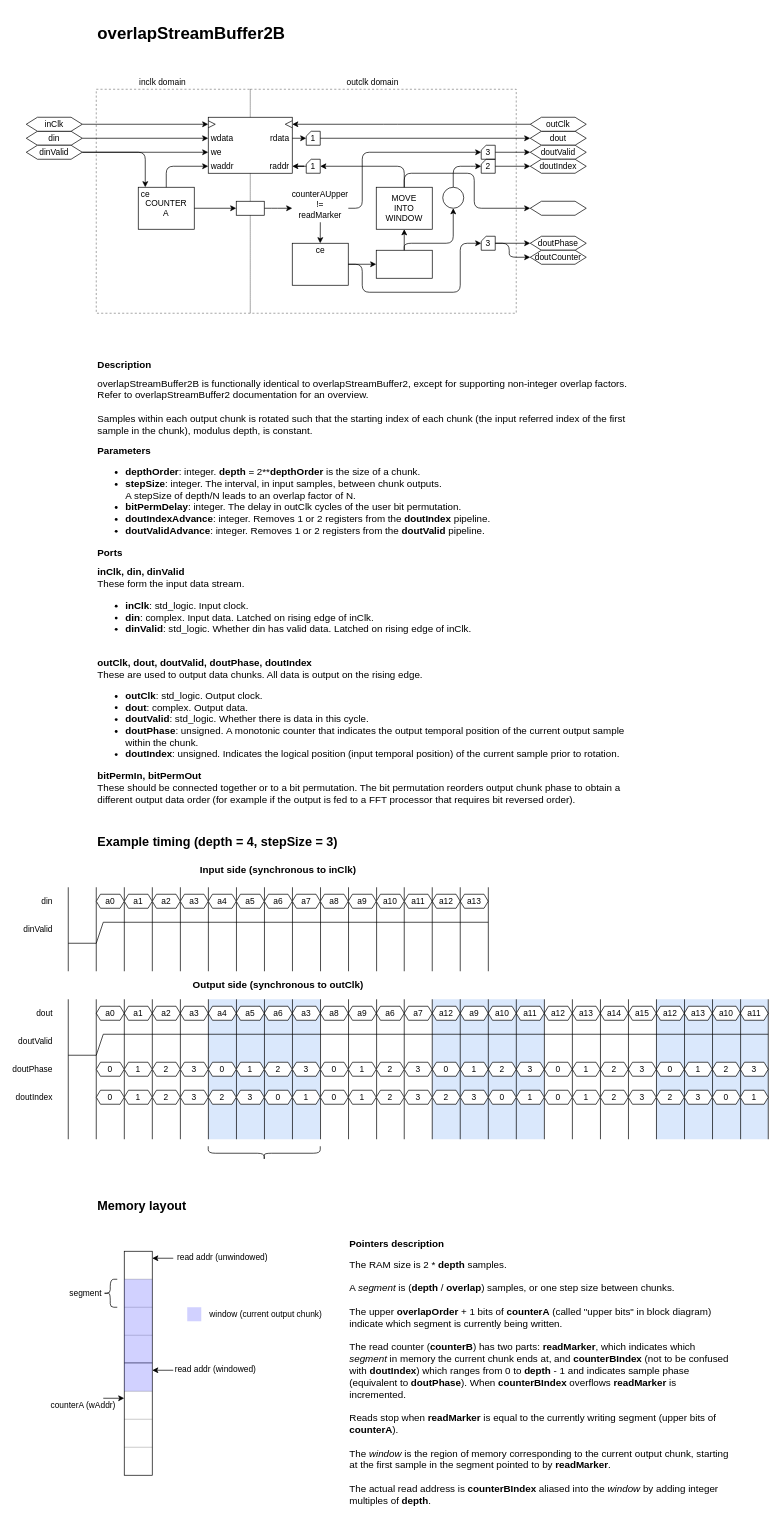
Image size: 781x1519. Some labels were removed from this diagram. The shapes that lost their labels are listed below. From the top down, each one's box as (x1, y1, x2, y2) in pixels, then its label:
(208, 117, 292, 173): RAM
(236, 201, 264, 215): CDC
(442, 187, 464, 208): +offs
(530, 201, 586, 215): doutRAddr
(292, 243, 348, 285): COUNTER B*
(376, 250, 432, 278): BIT PERMUTE
(208, 1146, 320, 1160): chunk
